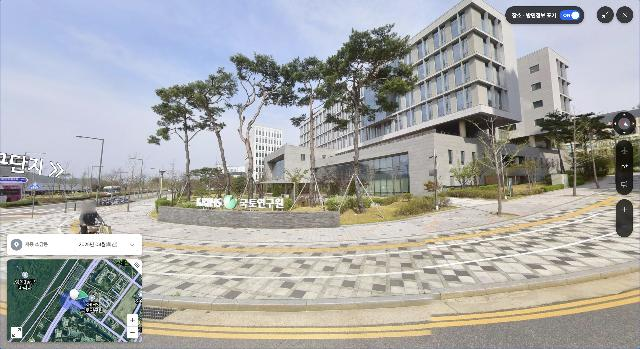other: (313, 22, 418, 213), (270, 56, 342, 209), (228, 51, 297, 205), (147, 80, 221, 205), (184, 69, 240, 206), (458, 110, 526, 216), (537, 108, 596, 197), (576, 113, 616, 198), (123, 151, 145, 212), (281, 167, 311, 199), (502, 152, 526, 190), (445, 159, 474, 190), (418, 179, 442, 205), (482, 162, 499, 191)
